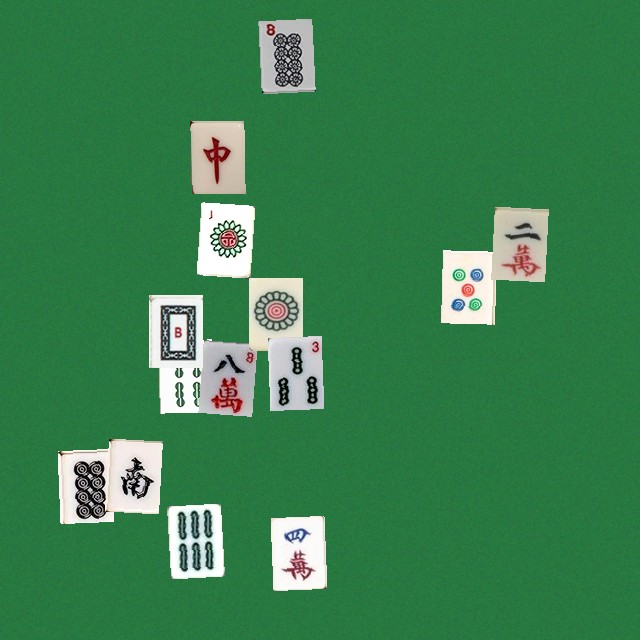tile: (441, 250, 495, 323), (166, 503, 220, 576), (158, 339, 212, 412), (198, 340, 252, 413), (270, 515, 324, 588), (196, 202, 250, 275), (248, 277, 302, 350), (267, 335, 321, 408), (258, 18, 312, 91), (57, 448, 111, 521), (148, 294, 202, 367), (190, 120, 244, 193), (105, 438, 159, 511), (491, 206, 545, 279)
